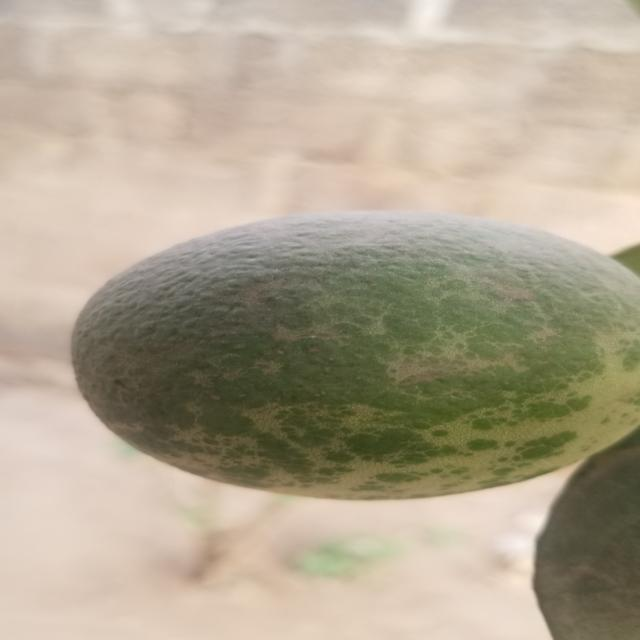Unripe: (62, 205, 637, 498)
